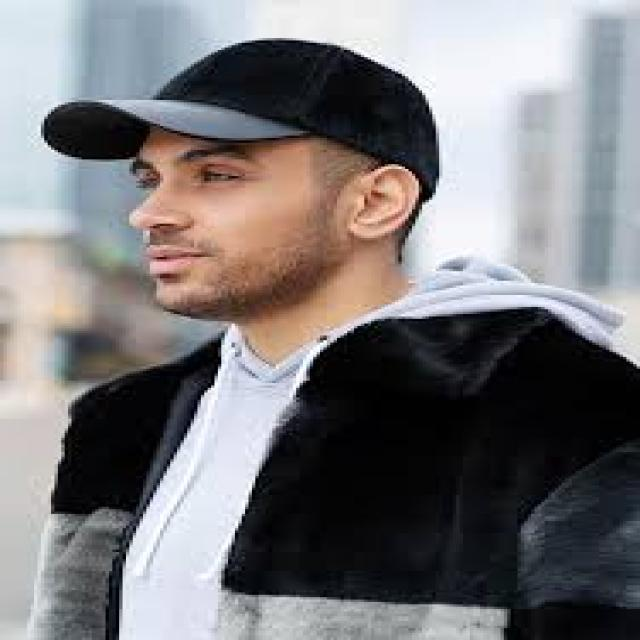cap: (8, 14, 472, 205)
